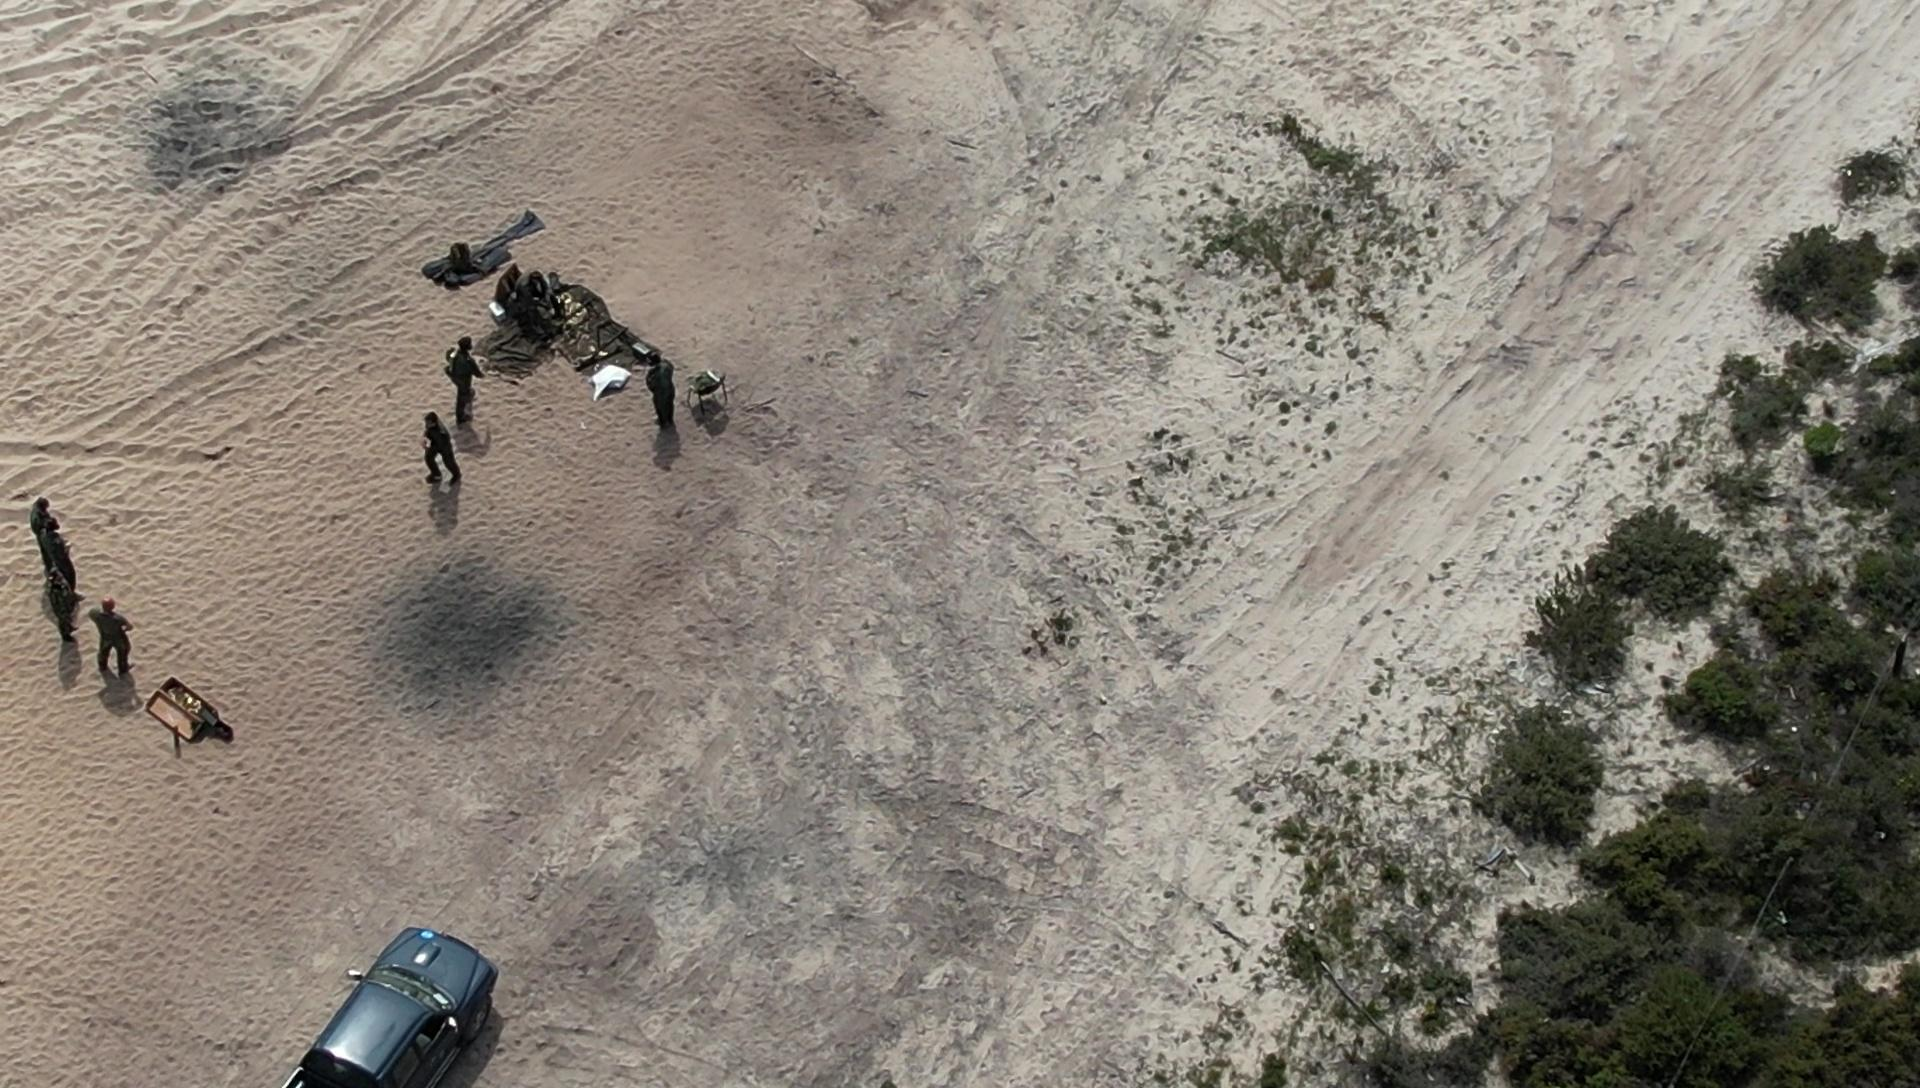Soldier: (429, 320, 498, 433), (80, 595, 148, 706), (637, 351, 695, 450), (37, 550, 88, 644), (504, 269, 556, 349), (422, 410, 456, 497), (28, 487, 63, 538)
